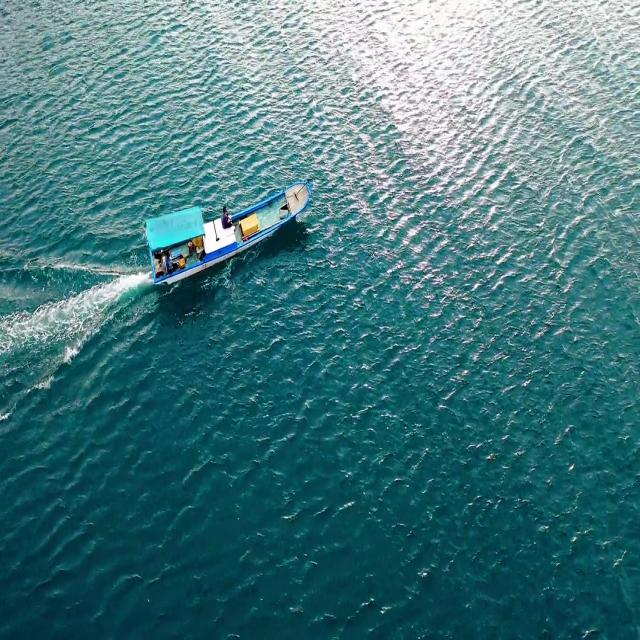ship: (142, 158, 318, 306)
